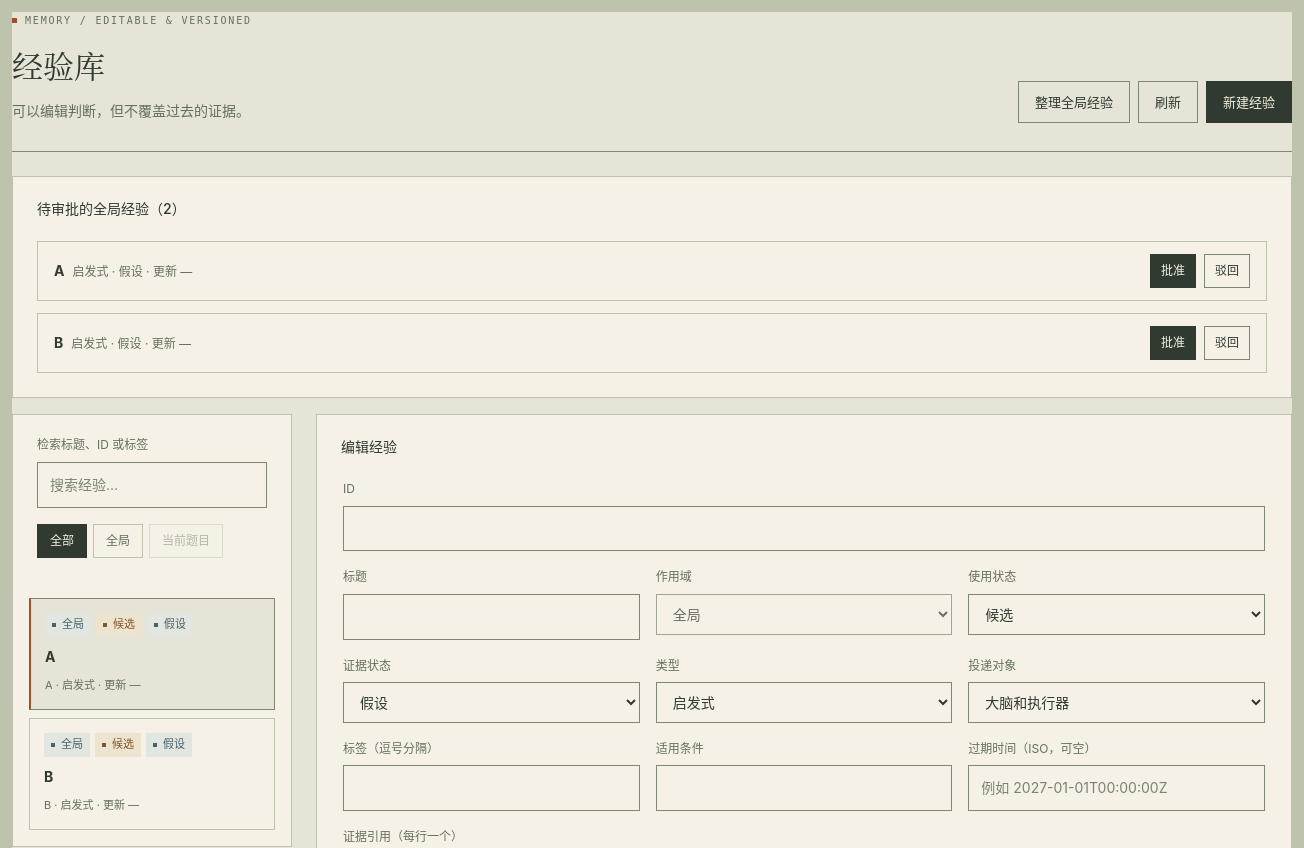
experience editor integrity › ignores the slow A response after the user selects B or creates a draft
Click the button "全局 候选 假设 B B · 启发式 · 更新 —".
click(152, 774)  # box [29,718,275,830]
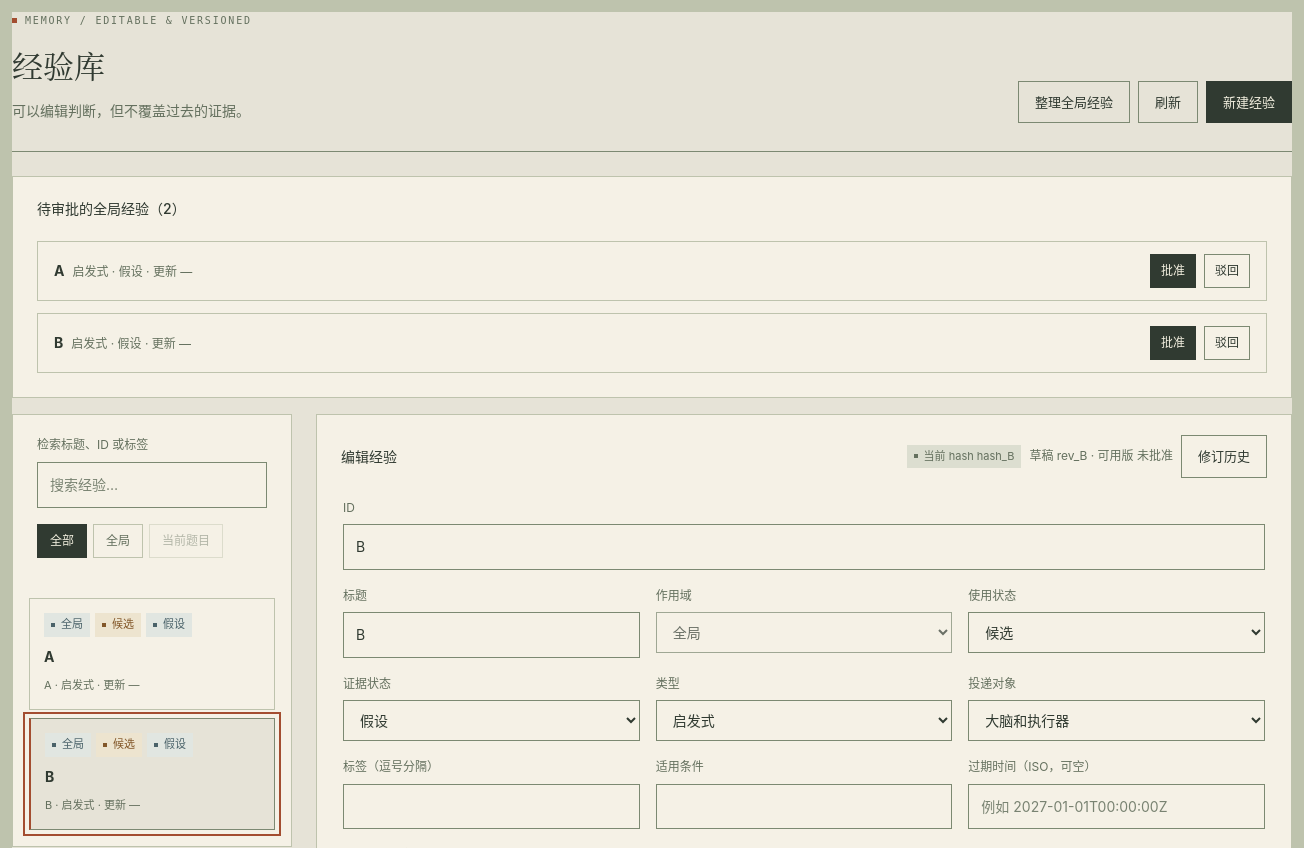
Result: the field labelled "标题" holds "B" at [343,612,640,658]
Click the button "新建经验".
click(1249, 102)  # box [1206,81,1292,123]
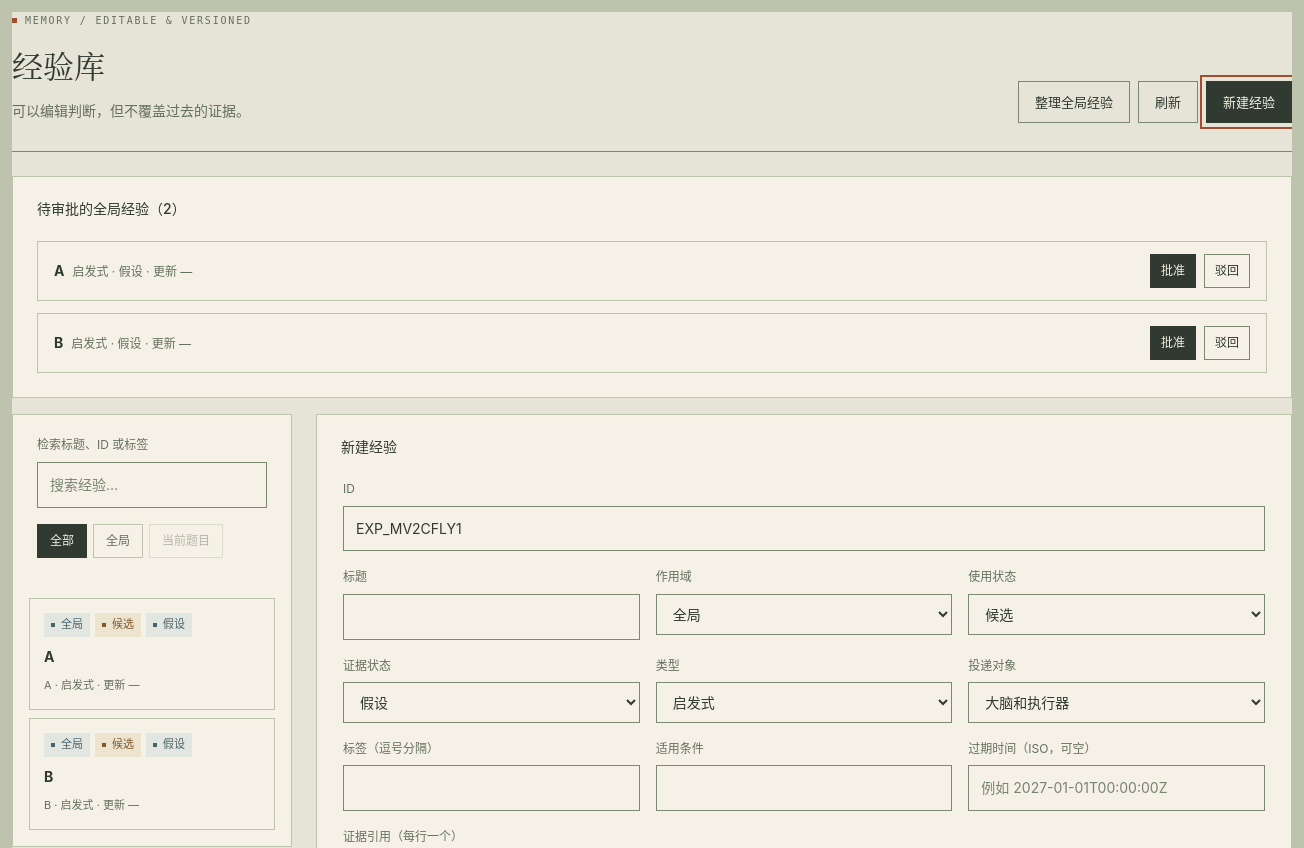
Result: the field labelled "ID" is enabled at [343,506,1265,551]
